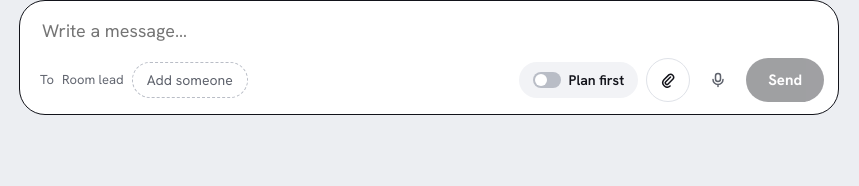
it: /assign result names the created task without a dead board link
Type "/assign @builder Fix it" into the dropdown named "Message general" at {"x": 432, "y": 30}, box [40,15,824,46]
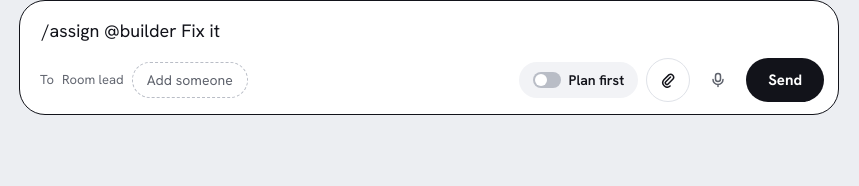
Press Enter in the dropdown named "Message general", box [40,15,824,46]
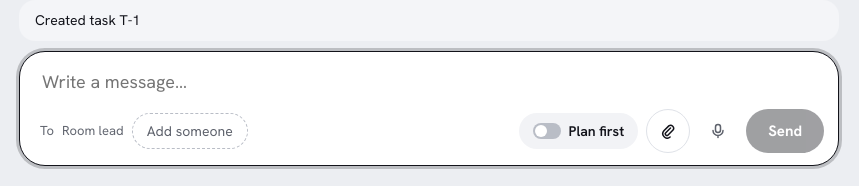
Now the message reads "Created task T-1", box [19,0,839,41]
